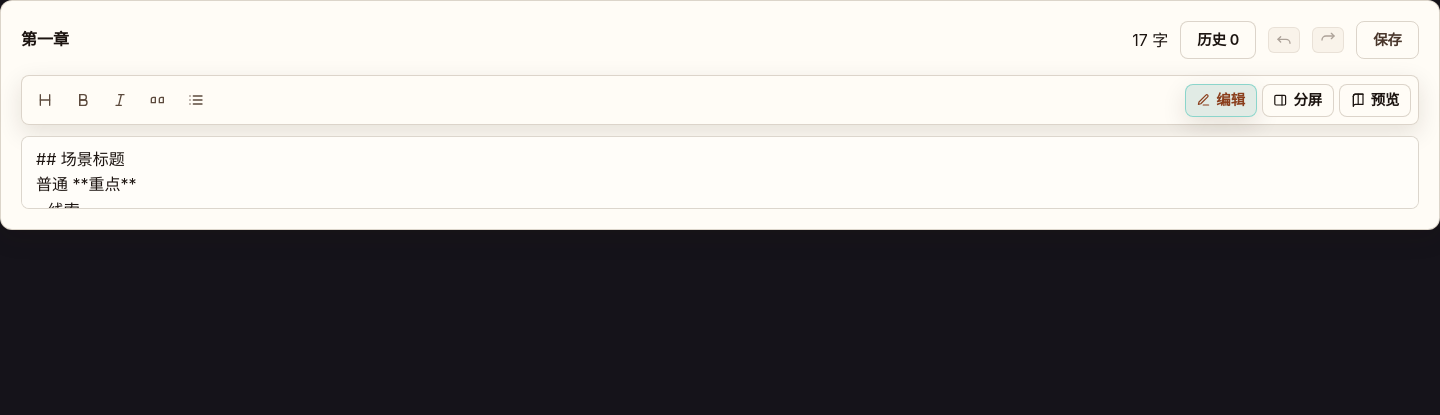
ChapterEditor › renders Markdown preview for headings, emphasis, lists and quotes
Click the button "预览". click: (1375, 100)
box: [1339, 84, 1411, 117]
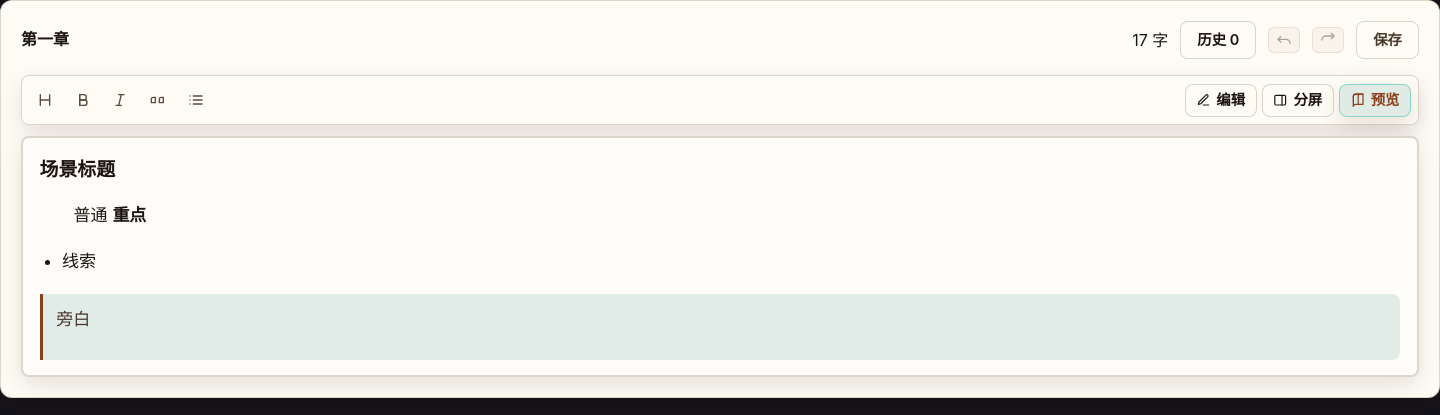
Result: the heading "场景标题" is shown at [40, 158, 115, 181]
Result: the text "重点" is shown at [112, 205, 146, 225]
Result: the list item "线索" is shown at [62, 251, 96, 271]
